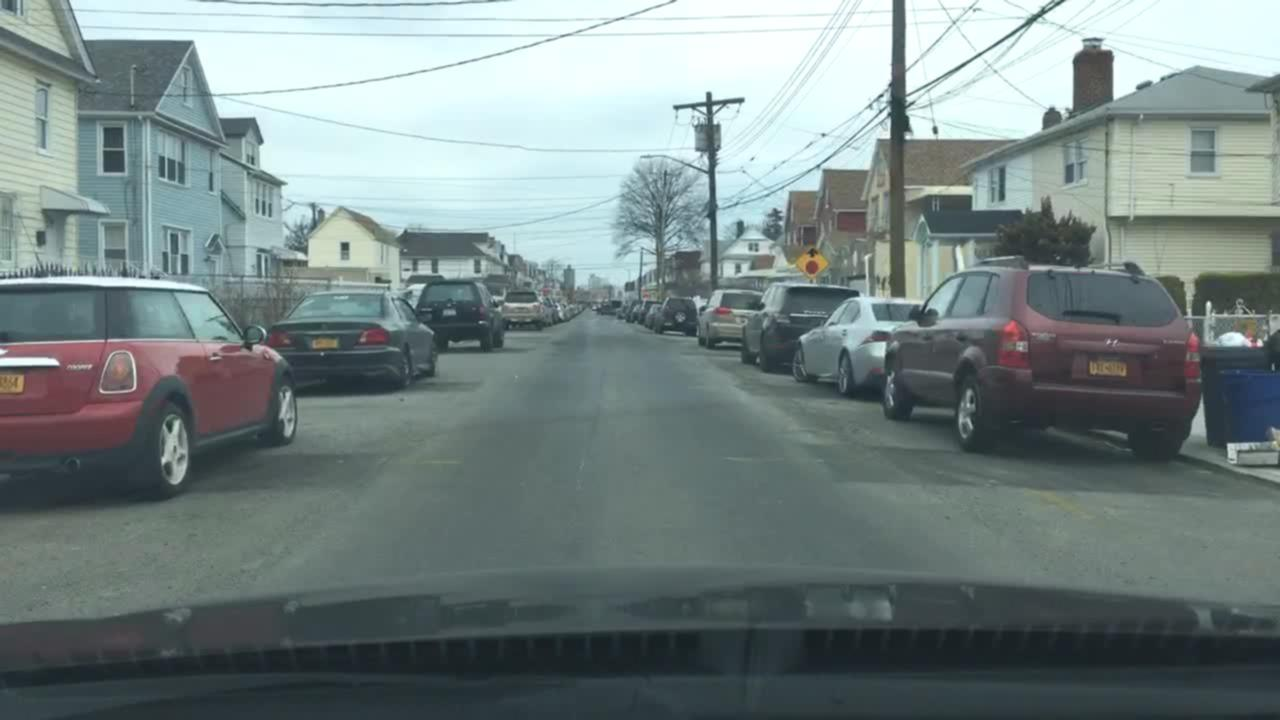Hyundai: (1101, 334, 1122, 351)
